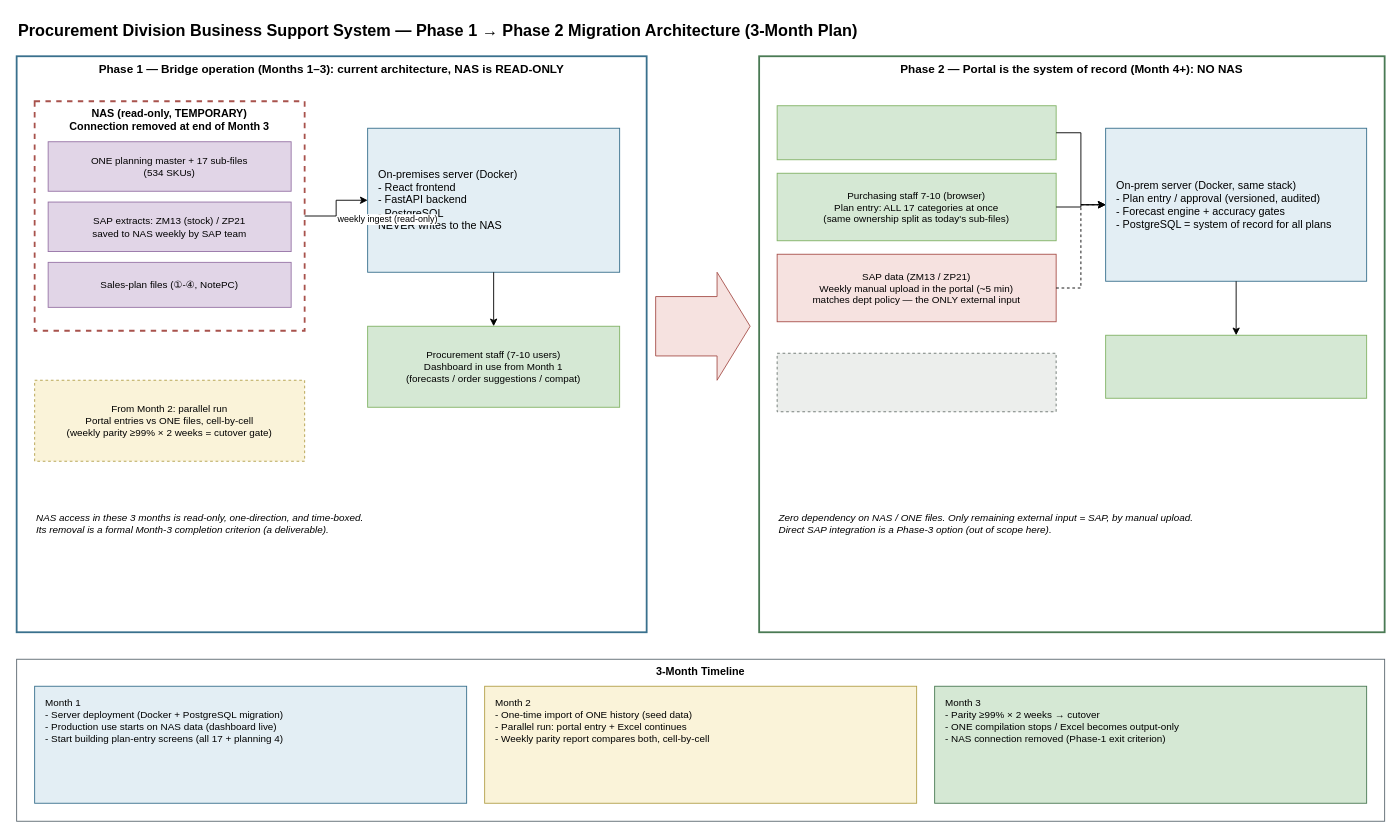
Image size: 1400x837. Some labels were removed from this diagram. Each missing label, with the centre of its shape:
Dashboard + Excel export (Excel flips from input to output-only): point (1236, 366)
Month 3 CUTOVER parity met → NAS removed: point (702, 325)
ONE Excel: read-only archive (master compilation abolished → no more drift): point (916, 382)
Planning dept (browser) Plan entry: CPU / MB / VGA / Case: point (916, 132)
